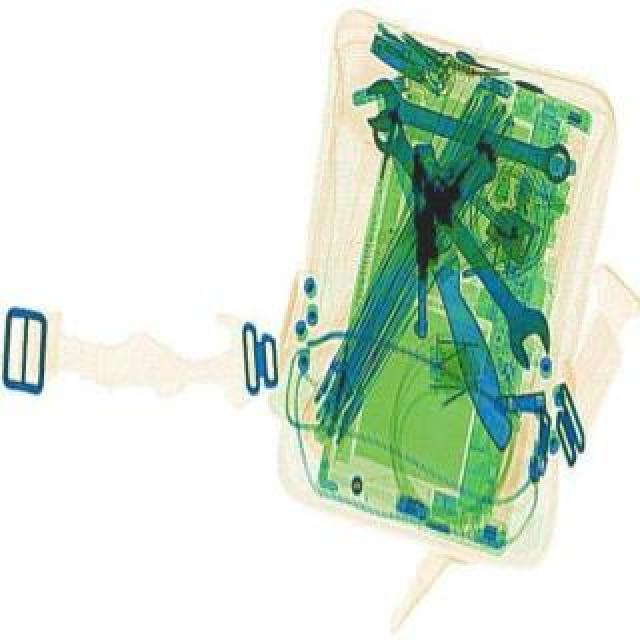gun: (412, 146, 508, 346)
knife: (390, 148, 524, 456)
scissors: (358, 100, 570, 376), (356, 78, 580, 198)
